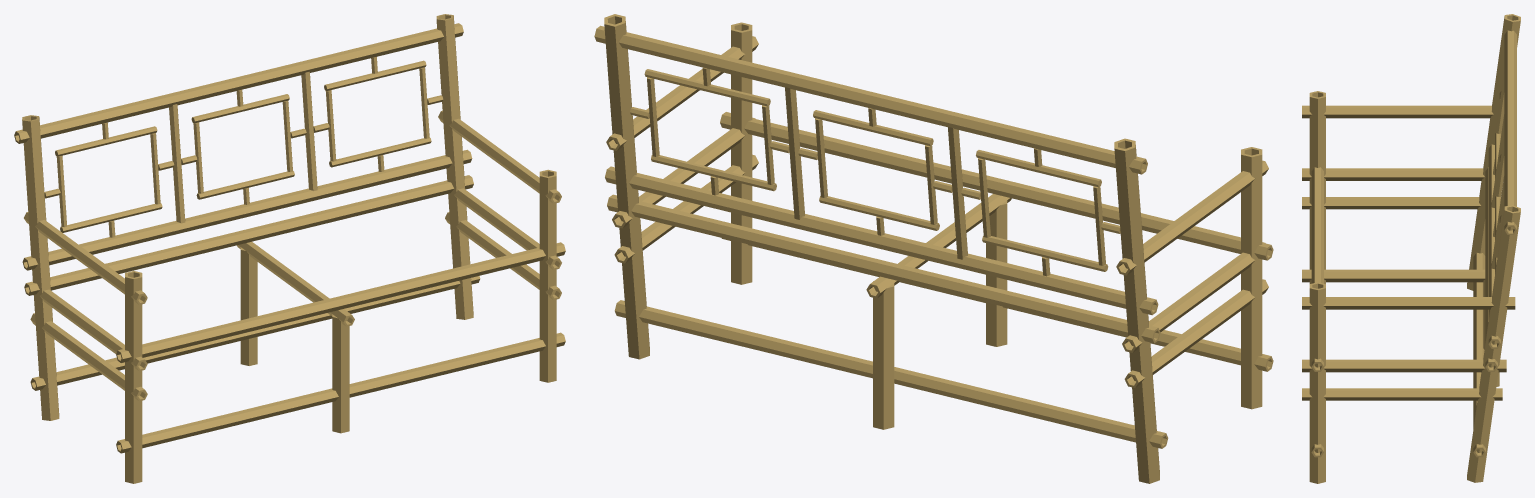
The model's file is ghe_bang_tre.far.glb.
3 renders of one model, left to right at view 1: azimuth 30°, elevation 25°; view 2: azimuth 150°, elevation 25°; view 3: azimuth 270°, elevation 25°, orthographic. The views are drawn at different scales.
Visible parts, largest first — view 1: ghe_bang_tre; view 2: ghe_bang_tre; view 3: ghe_bang_tre.
Part boxes in pixels (box(x1,y1,x2,y2)): ghe_bang_tre: box(14, 14, 565, 483); ghe_bang_tre: box(594, 14, 1273, 483); ghe_bang_tre: box(1302, 14, 1520, 483).
Size of the model in its own units: 1.54 by 0.9533 by 0.6958.
